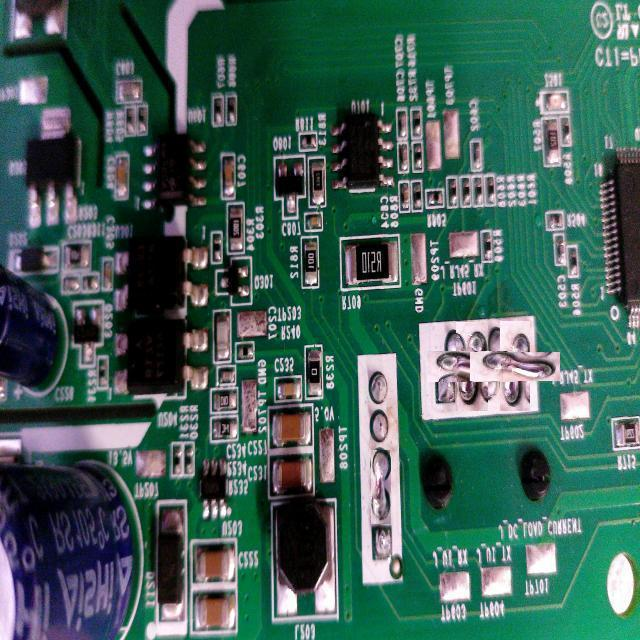Short_circuit: (442, 336, 502, 397), (486, 336, 546, 396), (371, 450, 391, 524)
